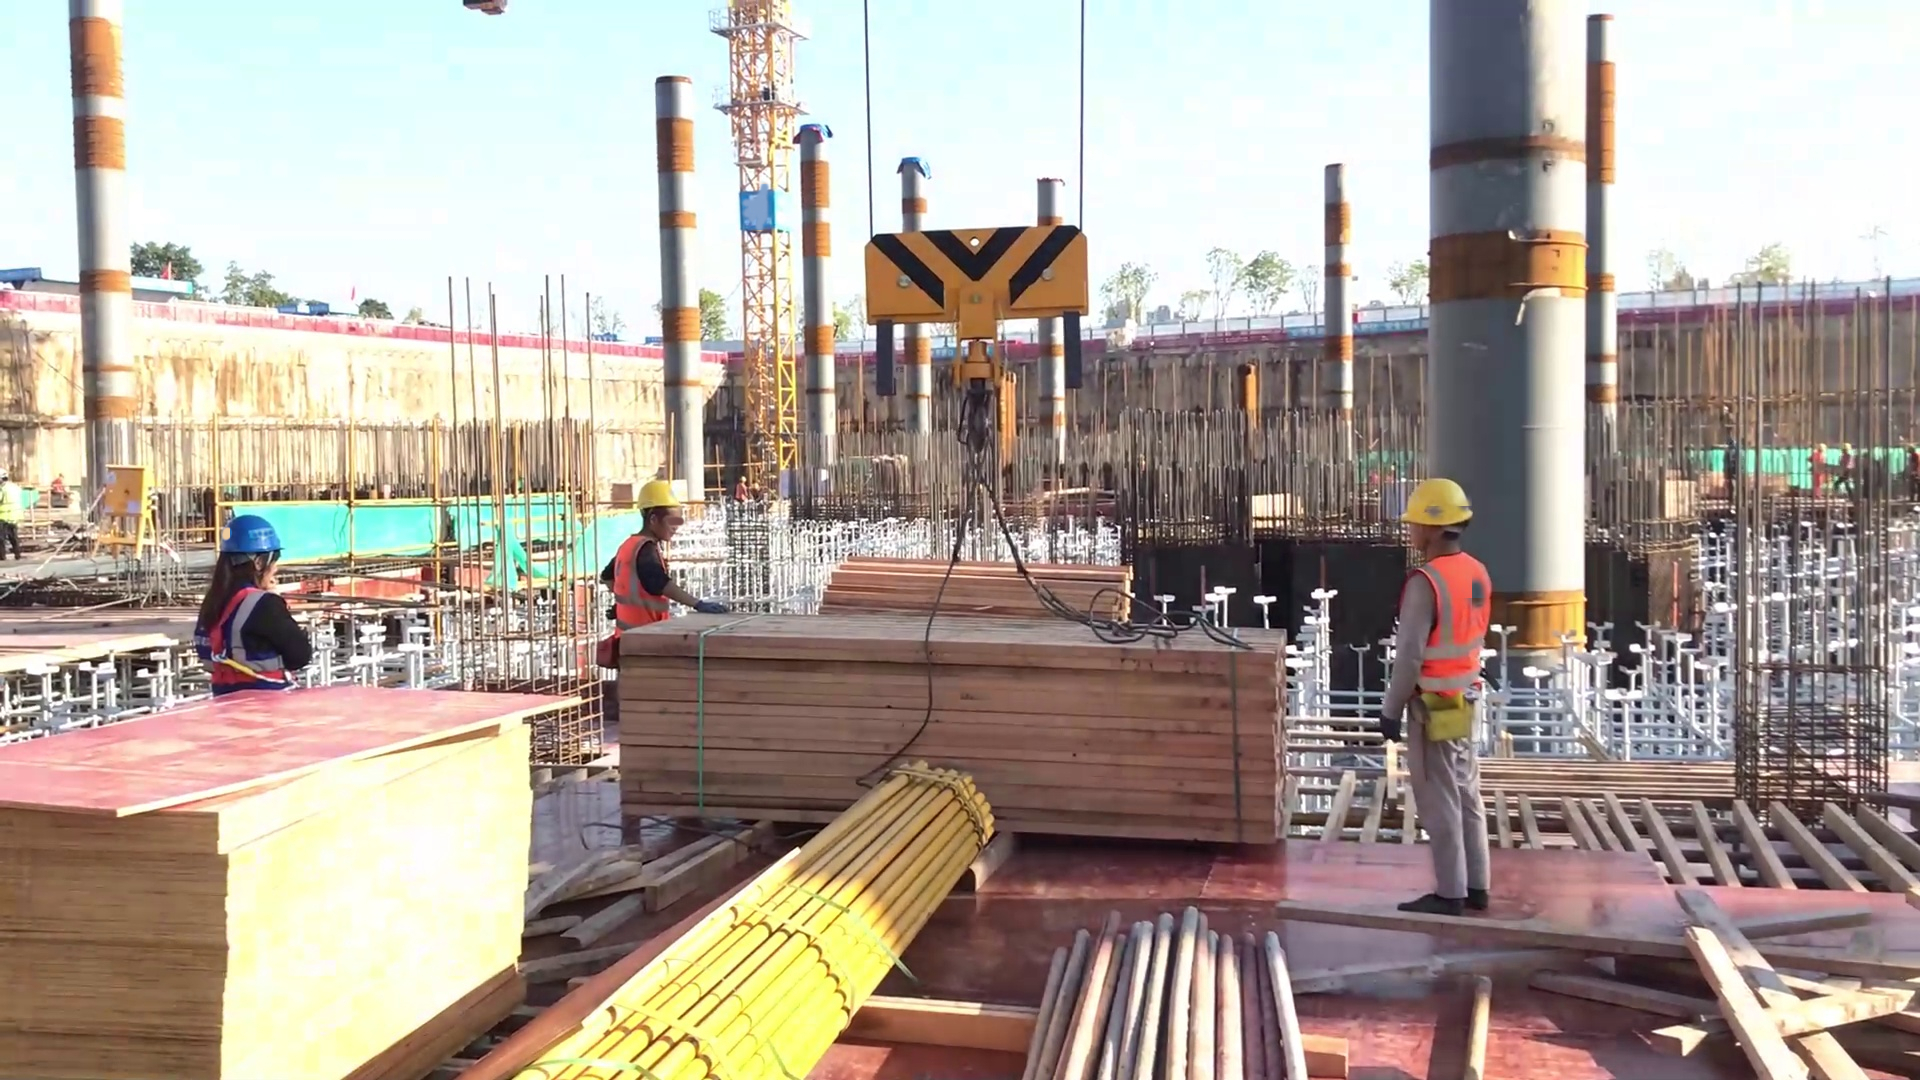board: (1, 674, 611, 1080)
ebox: (93, 453, 155, 543)
helmet: (1390, 464, 1475, 541), (208, 511, 298, 570), (623, 474, 706, 519)
hook: (846, 220, 1113, 441)
person: (1373, 462, 1506, 926), (208, 510, 338, 711), (592, 473, 744, 642)
rebar: (1020, 903, 1327, 1077)
vest: (196, 569, 308, 697), (1406, 557, 1492, 693), (606, 527, 682, 647)
wood: (608, 599, 1302, 857)
